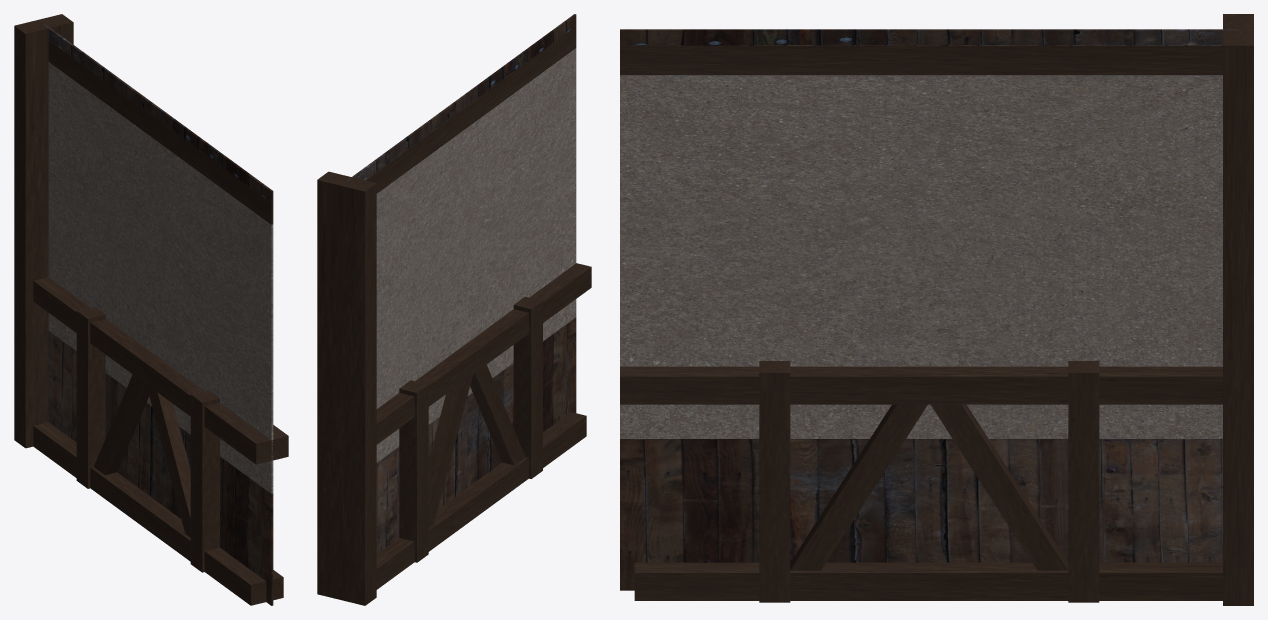
Rendered from OutdoorArchitecture_BasicWall03_RightEdge_BShortt.fbx.
The picture shows the model from 3 angles, left to right: view 1: azimuth 30°, elevation 25°; view 2: azimuth 150°, elevation 25°; view 3: azimuth 270°, elevation 25°; orthographic projection. The views are drawn at different scales.
Visible parts, largest first — view 1: OutdoorArchitecture_BasicWall03_RightEdge_BShortt; view 2: OutdoorArchitecture_BasicWall03_RightEdge_BShortt; view 3: OutdoorArchitecture_BasicWall03_RightEdge_BShortt.
Part boxes in pixels (x1,y1,x2,y2): OutdoorArchitecture_BasicWall03_RightEdge_BShortt: [14, 14, 288, 605]; OutdoorArchitecture_BasicWall03_RightEdge_BShortt: [317, 14, 591, 605]; OutdoorArchitecture_BasicWall03_RightEdge_BShortt: [620, 14, 1253, 605].
Size of the model in its own units: 36.37 by 300 by 308.
